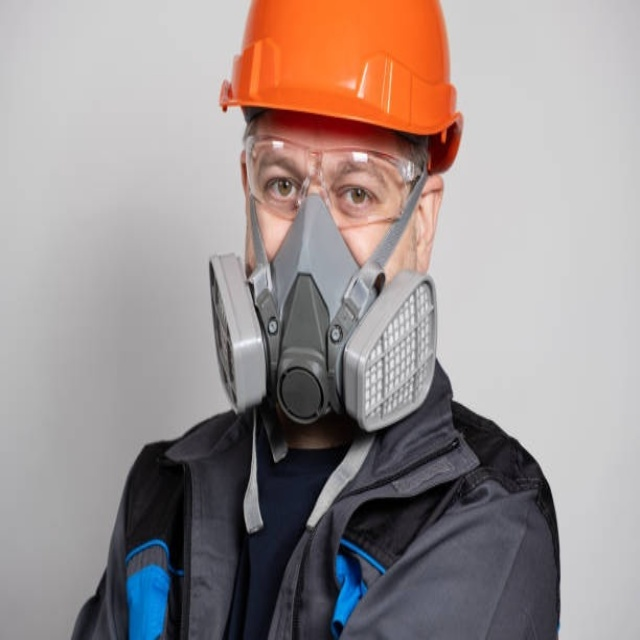Gafas: (244, 127, 425, 226)
Mascara: (209, 193, 439, 430)
